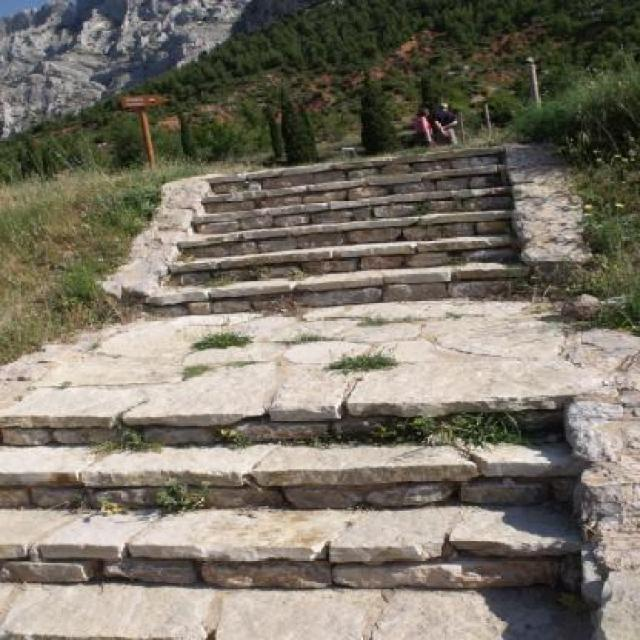stair: (0, 135, 574, 640)
